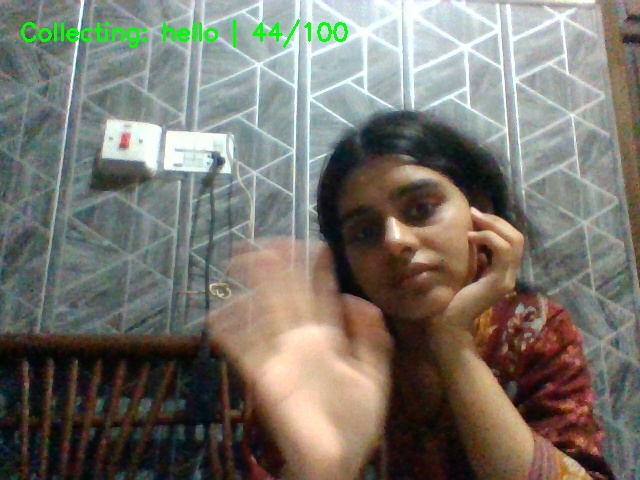hello: (189, 236, 395, 480)
